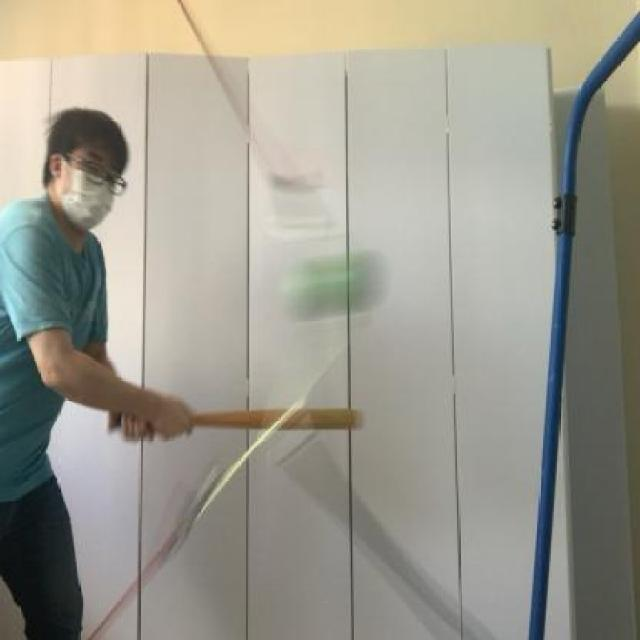baseball: (286, 251, 386, 323)
